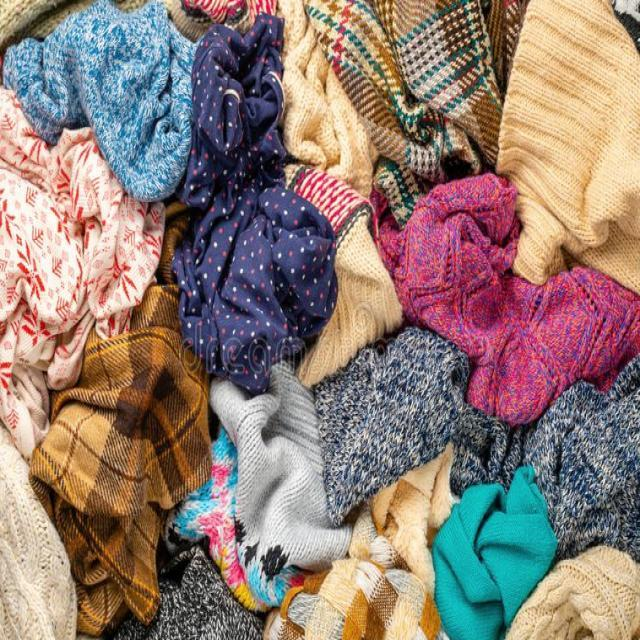clothes: (41, 127, 504, 578)
